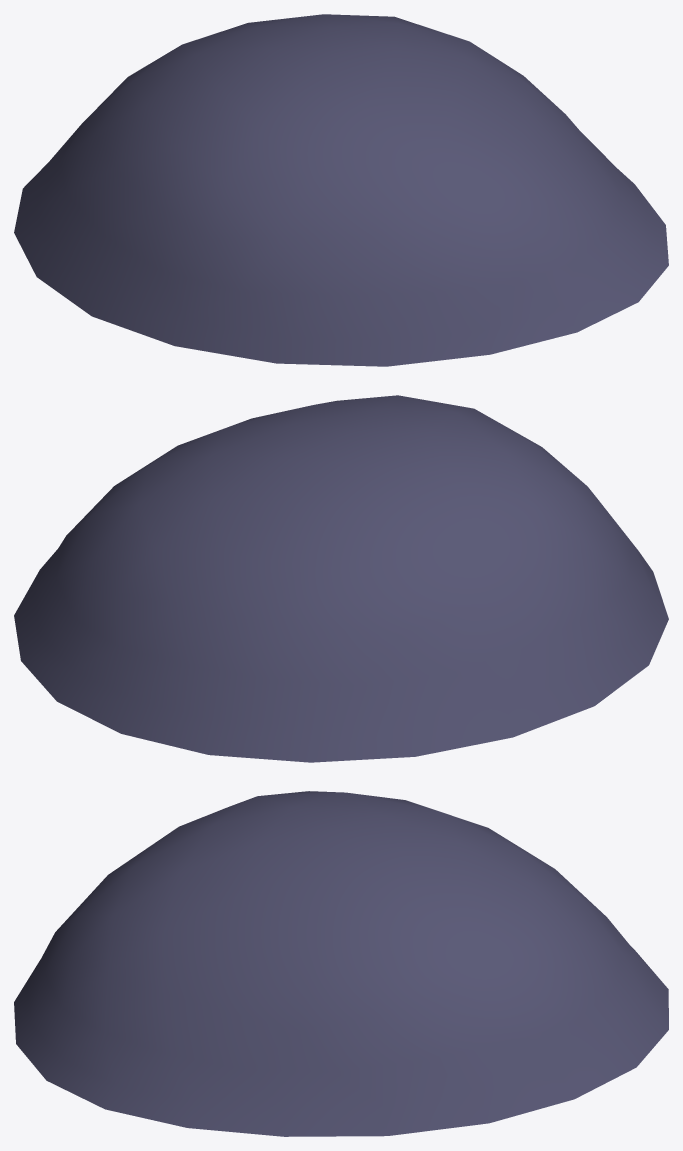
Rendered from Hill2_Bogdan.fbx.
3 views of the same model, one above another, from view 1: azimuth 30°, elevation 25°; view 2: azimuth 150°, elevation 25°; view 3: azimuth 270°, elevation 25° (orthographic). The views are drawn at different scales.
Visible parts, largest first — view 1: Hill2; view 2: Hill2; view 3: Hill2.
Part boxes in pixels (x1,y1,x2,y2): Hill2: (14,14,668,366); Hill2: (14,395,668,762); Hill2: (14,791,668,1136).
Size of the model in its own units: 489 by 154 by 524.
